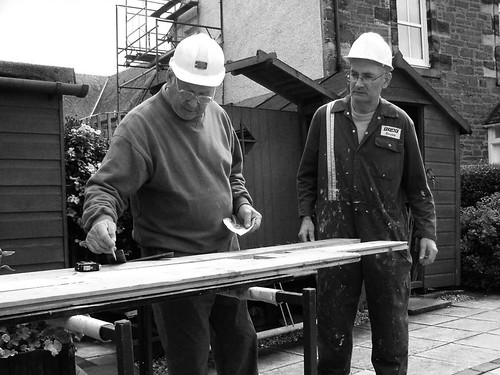person hardhat: (84, 33, 269, 373), (293, 28, 436, 375)
